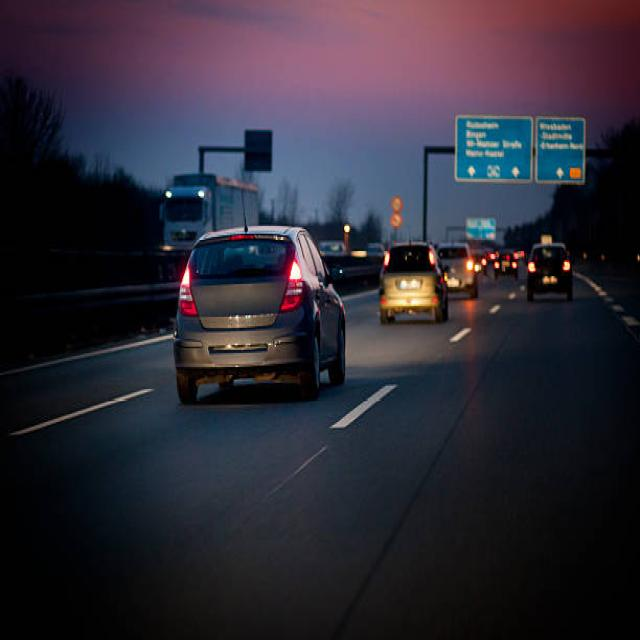Car: (172, 223, 346, 403), (378, 240, 448, 323), (526, 240, 573, 301)
Traffic-sign: (453, 113, 532, 183), (534, 114, 586, 184)
